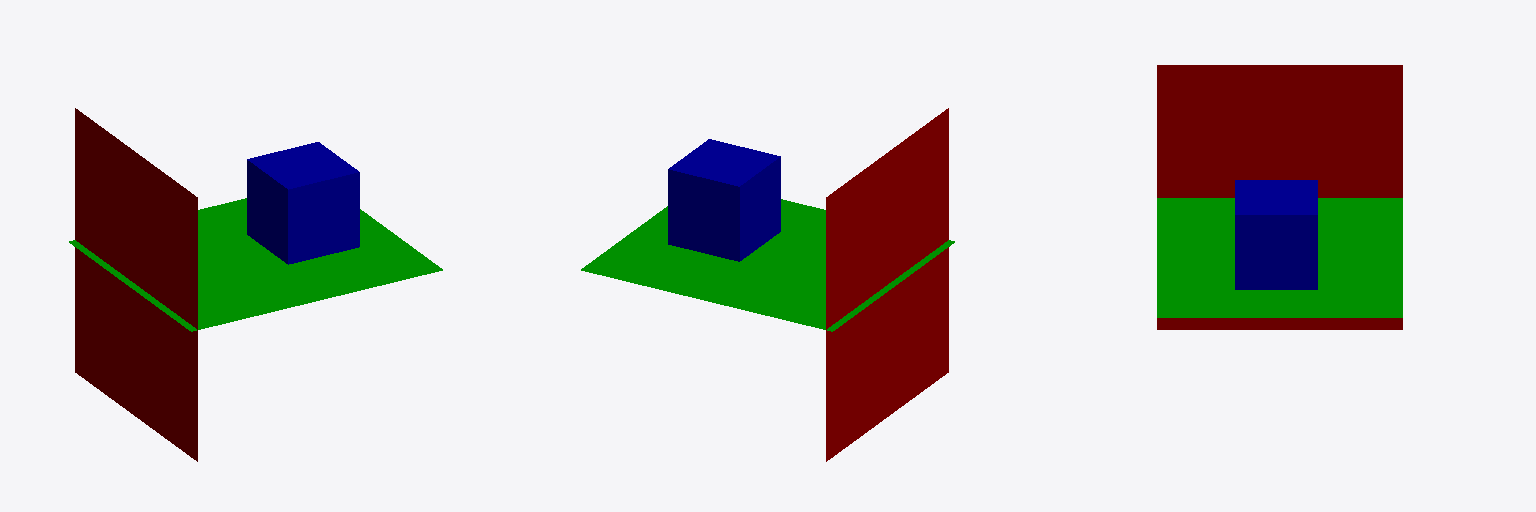
The model's file is NormalMap.obj.
3 views of the same model, side by side, from view 1: azimuth 30°, elevation 25°; view 2: azimuth 150°, elevation 25°; view 3: azimuth 270°, elevation 25° (orthographic).
Visible parts, largest first — view 1: Plane.001, Plane, Cube; view 2: Plane.001, Plane, Cube; view 3: Plane.001, Plane, Cube.
Part boxes in pixels (x1,y1,x2,y2): Plane.001: (75, 108, 197, 461); Plane: (69, 198, 442, 331); Cube: (247, 142, 359, 264); Plane.001: (826, 108, 948, 461); Plane: (581, 199, 954, 331); Cube: (668, 139, 780, 261); Plane.001: (1157, 65, 1402, 329); Plane: (1157, 198, 1402, 317); Cube: (1235, 180, 1317, 289).
Bounding box in the file's own units: 7.04 × 7.04 × 5.94.